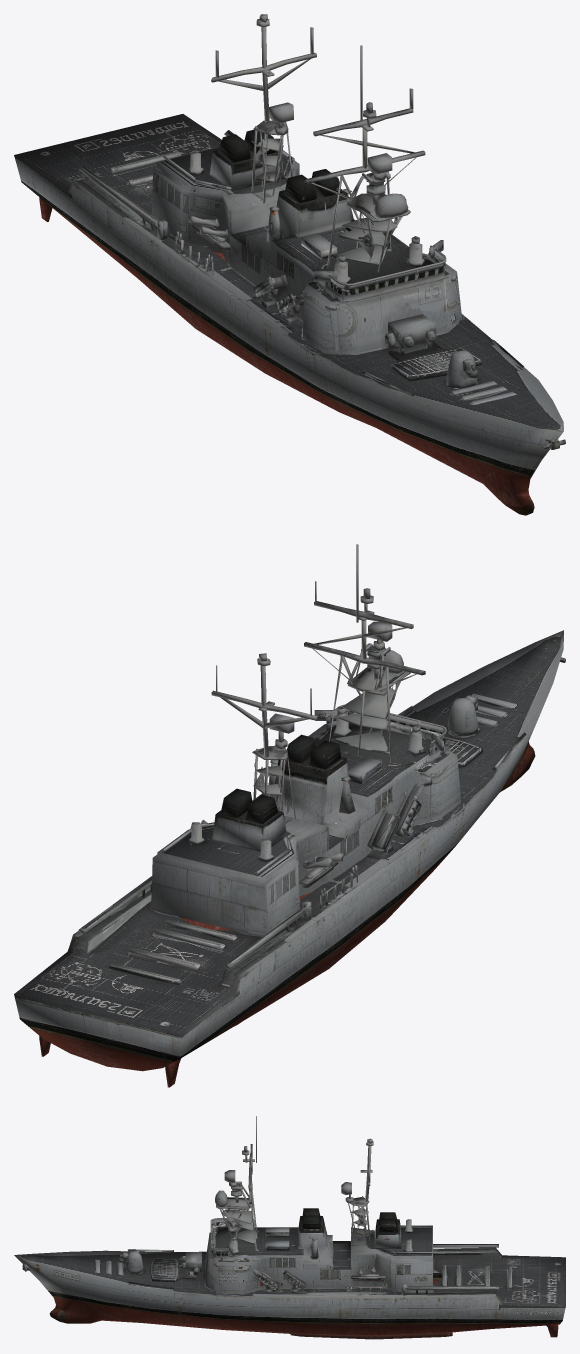
Rendered from hull_destroyer.glb.
3 views of the same model, one above another, from view 1: azimuth 30°, elevation 25°; view 2: azimuth 150°, elevation 25°; view 3: azimuth 270°, elevation 25° (orthographic). The views are drawn at different scales.
Parts seen in each view (by area): view 1: tripo_node_78bafdf7-6412-4ac6-8227-9e2eba191504; view 2: tripo_node_78bafdf7-6412-4ac6-8227-9e2eba191504; view 3: tripo_node_78bafdf7-6412-4ac6-8227-9e2eba191504.
Boxes of the visible parts, x1,y1,x2,y2 form: tripo_node_78bafdf7-6412-4ac6-8227-9e2eba191504: [14, 14, 565, 515]; tripo_node_78bafdf7-6412-4ac6-8227-9e2eba191504: [14, 544, 565, 1087]; tripo_node_78bafdf7-6412-4ac6-8227-9e2eba191504: [14, 1116, 565, 1339].
Size of the model in its own units: 25.36 by 52.37 by 121.
Materials: 1 (1 with a texture image).
